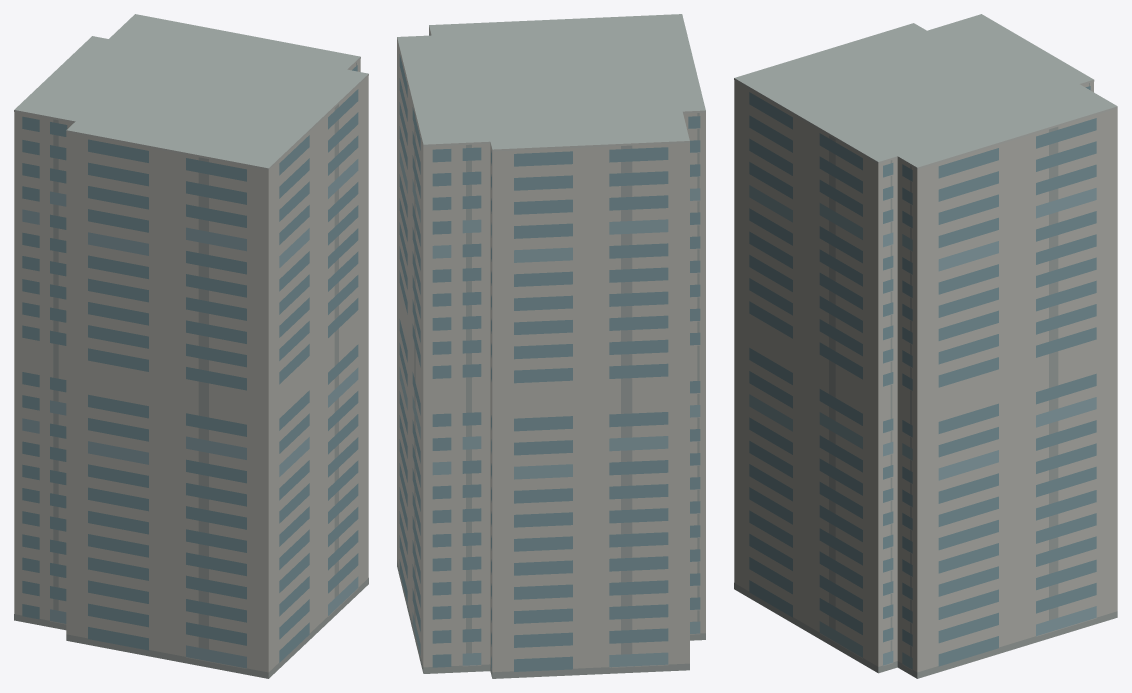
The model's file is residential-ea404816-829b-4a1e-9b48-403612718122.glb.
3 views of the same model, side by side, from view 1: azimuth 30°, elevation 25°; view 2: azimuth 150°, elevation 25°; view 3: azimuth 270°, elevation 25° (orthographic). The views are drawn at different scales.
Parts seen in each view (by area): view 1: residential-ea404816-829b-4a1e-9b48-403612718122.tmp; view 2: residential-ea404816-829b-4a1e-9b48-403612718122.tmp; view 3: residential-ea404816-829b-4a1e-9b48-403612718122.tmp.
Part boxes in pixels (x1,y1,x2,y2): residential-ea404816-829b-4a1e-9b48-403612718122.tmp: [14, 14, 368, 678]; residential-ea404816-829b-4a1e-9b48-403612718122.tmp: [397, 14, 705, 678]; residential-ea404816-829b-4a1e-9b48-403612718122.tmp: [734, 14, 1117, 678].
Size of the model in its own units: 38.69 by 60 by 40.81.
